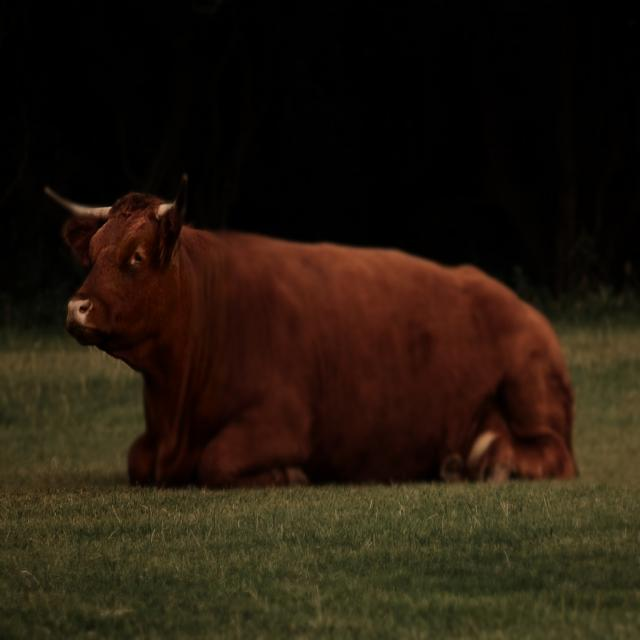Cattle: (44, 174, 580, 491)
